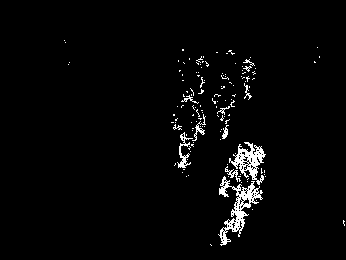person: (171, 87, 207, 170), (211, 73, 238, 140), (239, 54, 258, 101)
